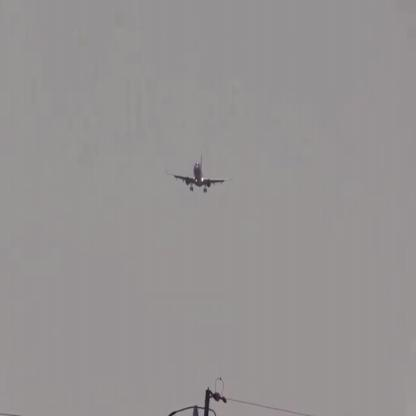CIV_Plane: (166, 155, 233, 193)
